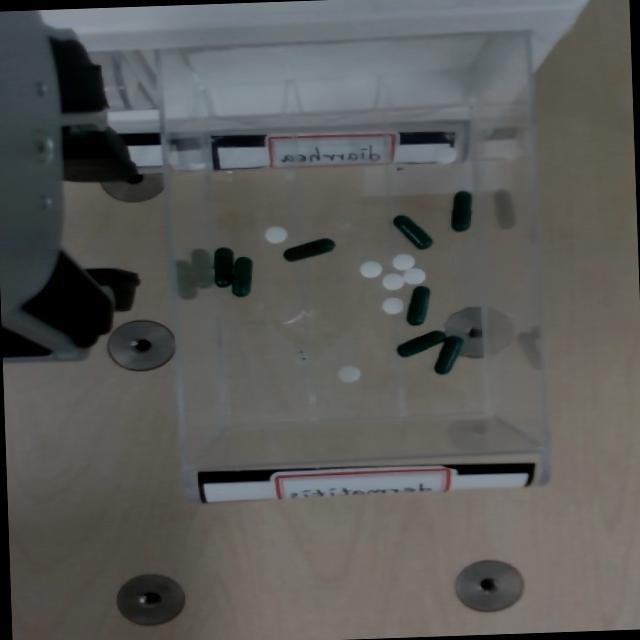ganakan_tab: (261, 224, 289, 244), (357, 258, 383, 279), (388, 252, 415, 271), (379, 295, 405, 314), (400, 266, 424, 285), (337, 364, 360, 382), (380, 273, 404, 289)
monodoxy_cap: (391, 213, 435, 251), (281, 238, 336, 263), (432, 334, 465, 375), (395, 330, 445, 357), (393, 216, 432, 250), (396, 331, 445, 357), (282, 239, 334, 262), (404, 285, 432, 327), (447, 190, 474, 232), (229, 255, 255, 298), (433, 337, 461, 374), (212, 246, 234, 289), (406, 287, 429, 325), (230, 258, 252, 297), (450, 191, 471, 231), (213, 248, 233, 287)
